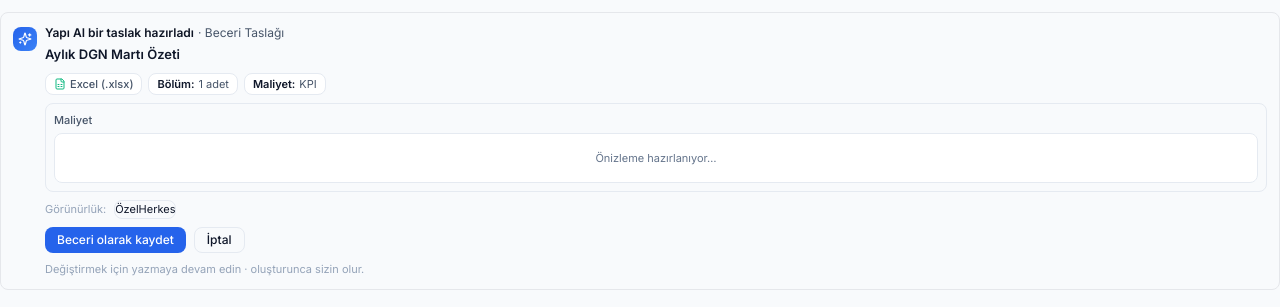
Test: ProposedActionCard draft_skill (CR-044) › 'Beceri olarak kaydet' creates the skill AS THE USER and stays in chat with a link to Uygulamalar
The width and height of the screenshot is (1280, 307).
Later steps or results of the test are not shown.
Click the button "Beceri olarak kaydet" at (115, 240), box [45, 226, 186, 252]
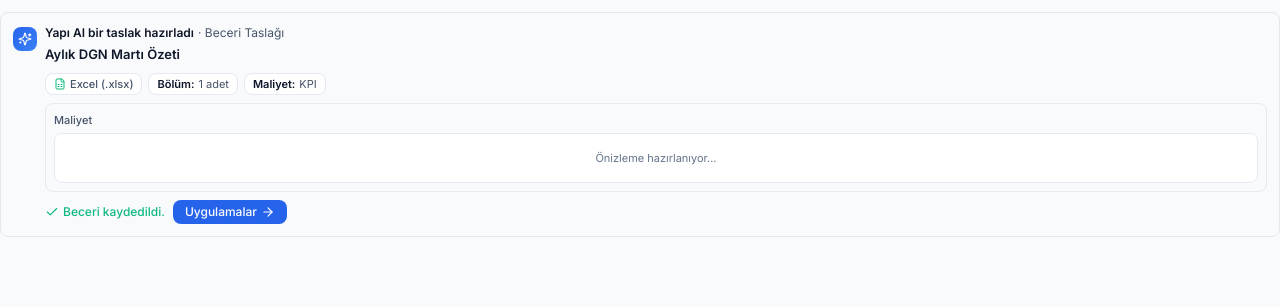
expect the button "Uygulamalar" is shown: met, box [173, 200, 287, 224]
